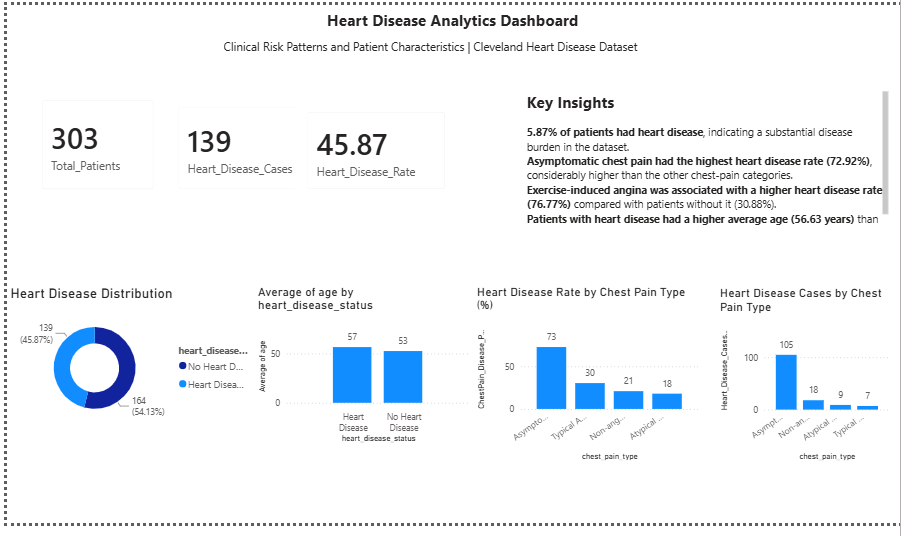

The dashboard page shown, as its layout file describes it:
{"tool":"powerbi","page":{"name":"Page 1","canvas":[1280,720],"ordinal":0},"visuals":[{"type":"cardVisual","fields":{"Data":["public heart_disease_powerbi.Heart_Disease_Cases"]},"box":[220.8,125,247.9,147.9],"z":4},{"type":"clusteredColumnChart","title":"Heart Disease Cases by Chest Pain Type","fields":{"Y":["public heart_disease_powerbi.Heart_Disease_Cases_By_Type"],"Category":["public heart_disease_powerbi.chest_pain_type"]},"box":[985.4,389.1,245.3,247.4],"z":7},{"type":"columnChart","title":"Heart Disease Rate by Chest Pain Type (%)","fields":{"Category":["public heart_disease_powerbi.chest_pain_type"],"Y":["public heart_disease_powerbi.ChestPain_Disease_Percentage"]},"box":[647.1,387,317.2,249.5],"z":9},{"type":"clusteredColumnChart","fields":{"Category":["public heart_disease_powerbi.heart_disease_status"],"Y":["Avg(public heart_disease_powerbi.age)"]},"box":[343.8,387.5,304.2,225],"z":10},{"type":"textbox","box":[0,238,220,150],"z":12},{"type":"textbox","box":[295,42.5,690,35],"z":13},{"type":"textbox","box":[439.6,0,422.9,50],"z":14},{"type":"cardVisual","fields":{"Data":["public heart_disease_powerbi.Total_Patients"]},"box":[31.2,114.6,189.6,158.3],"z":15},{"type":"cardVisual","fields":{"Data":["public heart_disease_powerbi.Heart_Disease_Rate"]},"box":[400,131.2,225,141.7],"z":16},{"type":"donutChart","title":"Heart Disease Distribution","fields":{"Category":["public heart_disease_powerbi.heart_disease_status"],"Y":["CountNonNull(public heart_disease_powerbi.heart_disease_status)"]},"box":[0,389.6,343.8,195.8],"z":18},{"type":"textbox","box":[716.7,114.6,512.5,197.9],"z":19}]}

Visuals, with their boxes on the page's 1280x720 design canvas (x1, y1, x2, y2). These are canvas units, not pixel positions in the 913x536 screenshot, which may show the page scaled, cropped or inside an application window:
cardVisual - public heart_disease_powerbi.Heart_Disease_Cases: 221:125:469:273
"Heart Disease Cases by Chest Pain Type" clusteredColumnChart: 985:389:1231:636
"Heart Disease Rate by Chest Pain Type (%)" columnChart: 647:387:964:636
clusteredColumnChart - public heart_disease_powerbi.heart_disease_status x Avg(public heart_disease_powerbi.age): 344:388:648:612
textbox: 0:238:220:388
textbox: 295:42:985:78
textbox: 440:0:862:50
cardVisual - public heart_disease_powerbi.Total_Patients: 31:115:221:273
cardVisual - public heart_disease_powerbi.Heart_Disease_Rate: 400:131:625:273
"Heart Disease Distribution" donutChart: 0:390:344:585
textbox: 717:115:1229:312
